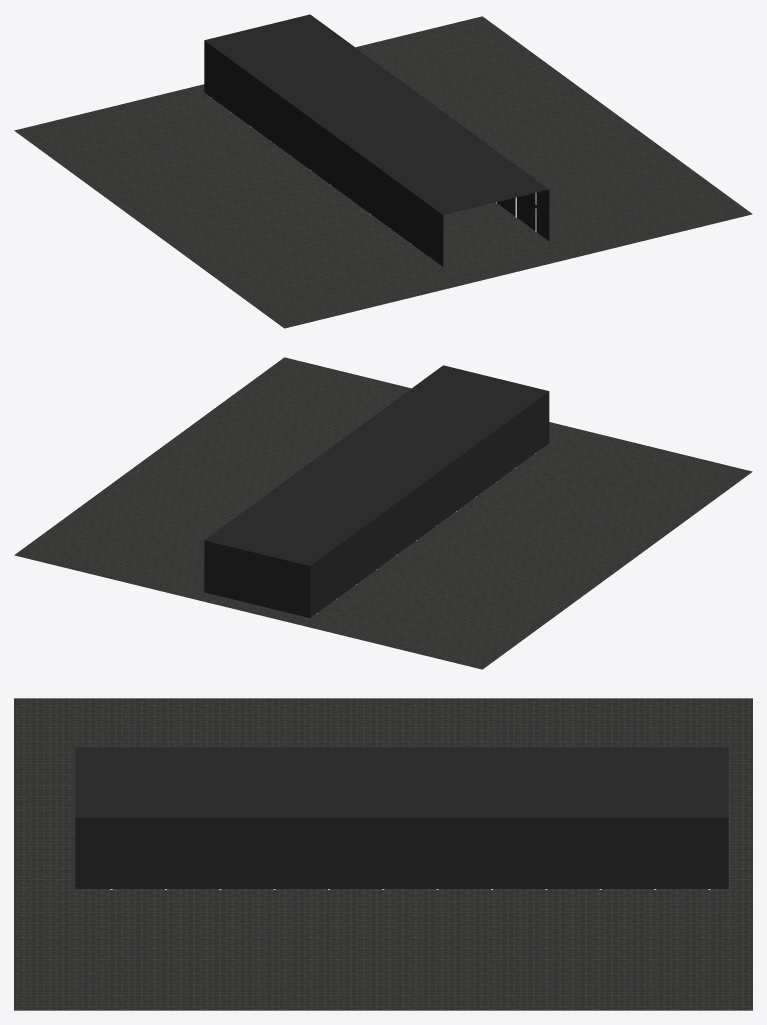
Rendered from studio.glb.
3 views of the same model, one above another, from view 1: azimuth 30°, elevation 25°; view 2: azimuth 150°, elevation 25°; view 3: azimuth 270°, elevation 25° (orthographic). The views are drawn at different scales.
Parts seen in each view (by area): view 1: ground, wall; view 2: ground, wall; view 3: ground, wall.
Boxes of the visible parts, <box> form: ground: <box>14,16,752,328</box>; wall: <box>204,14,549,266</box>; ground: <box>14,357,752,669</box>; wall: <box>204,365,549,617</box>; ground: <box>14,698,752,1010</box>; wall: <box>75,747,728,888</box>.
Size of the model in its own units: 28.28 by 3.05 by 28.28.
Materials: 3 (1 with a texture image).
